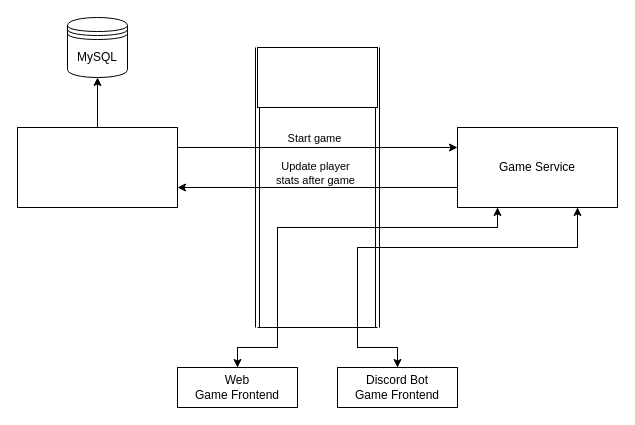
Image size: 635x425. Some labels were removed from this diagram. The shapes that lost their labels are listed below. From the top down, each one's centre as x and y in pixels, then its label:
At [317,77]: "Message Broker (Redis, SQS, Service Bus, etc.)".
At [97,167]: "Web App".
